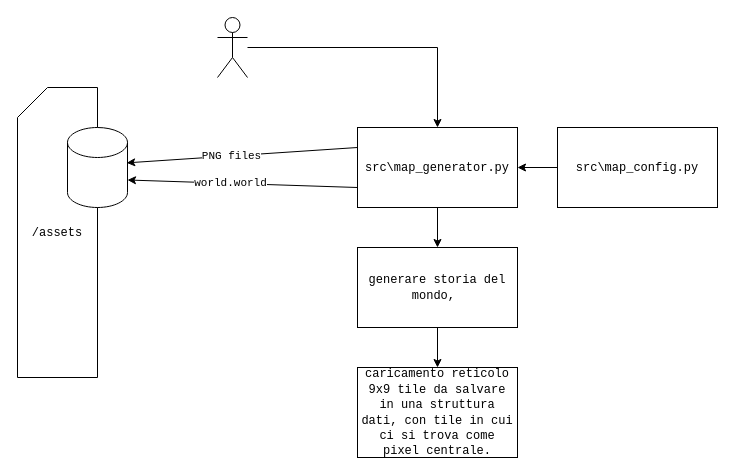
Image size: 735x476. Some labels were removed from this diagram. The shapes that lost their labels are listed below. From the top down, each one's box as (x1, y1, x2, y2) in pixels, then its label:
(216, 16, 248, 78): Entrypoint
(66, 126, 128, 208): /map
